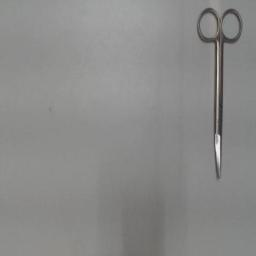Curved Mayo Scissors: (194, 6, 246, 182)
